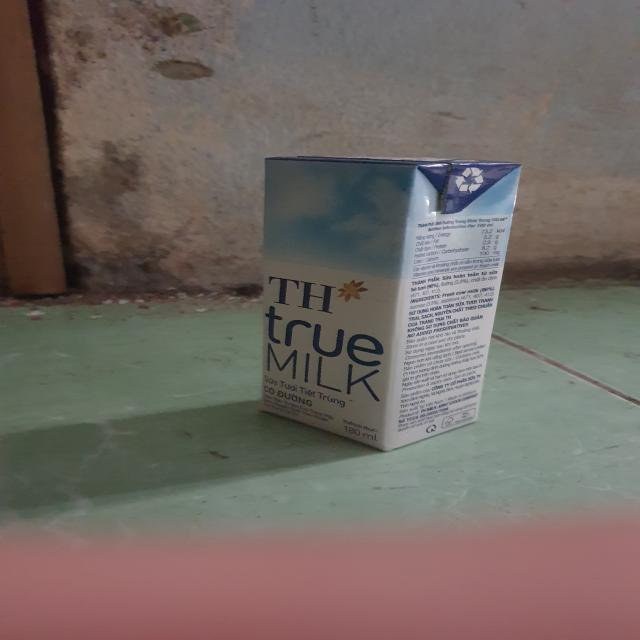TH: (261, 153, 520, 452)
